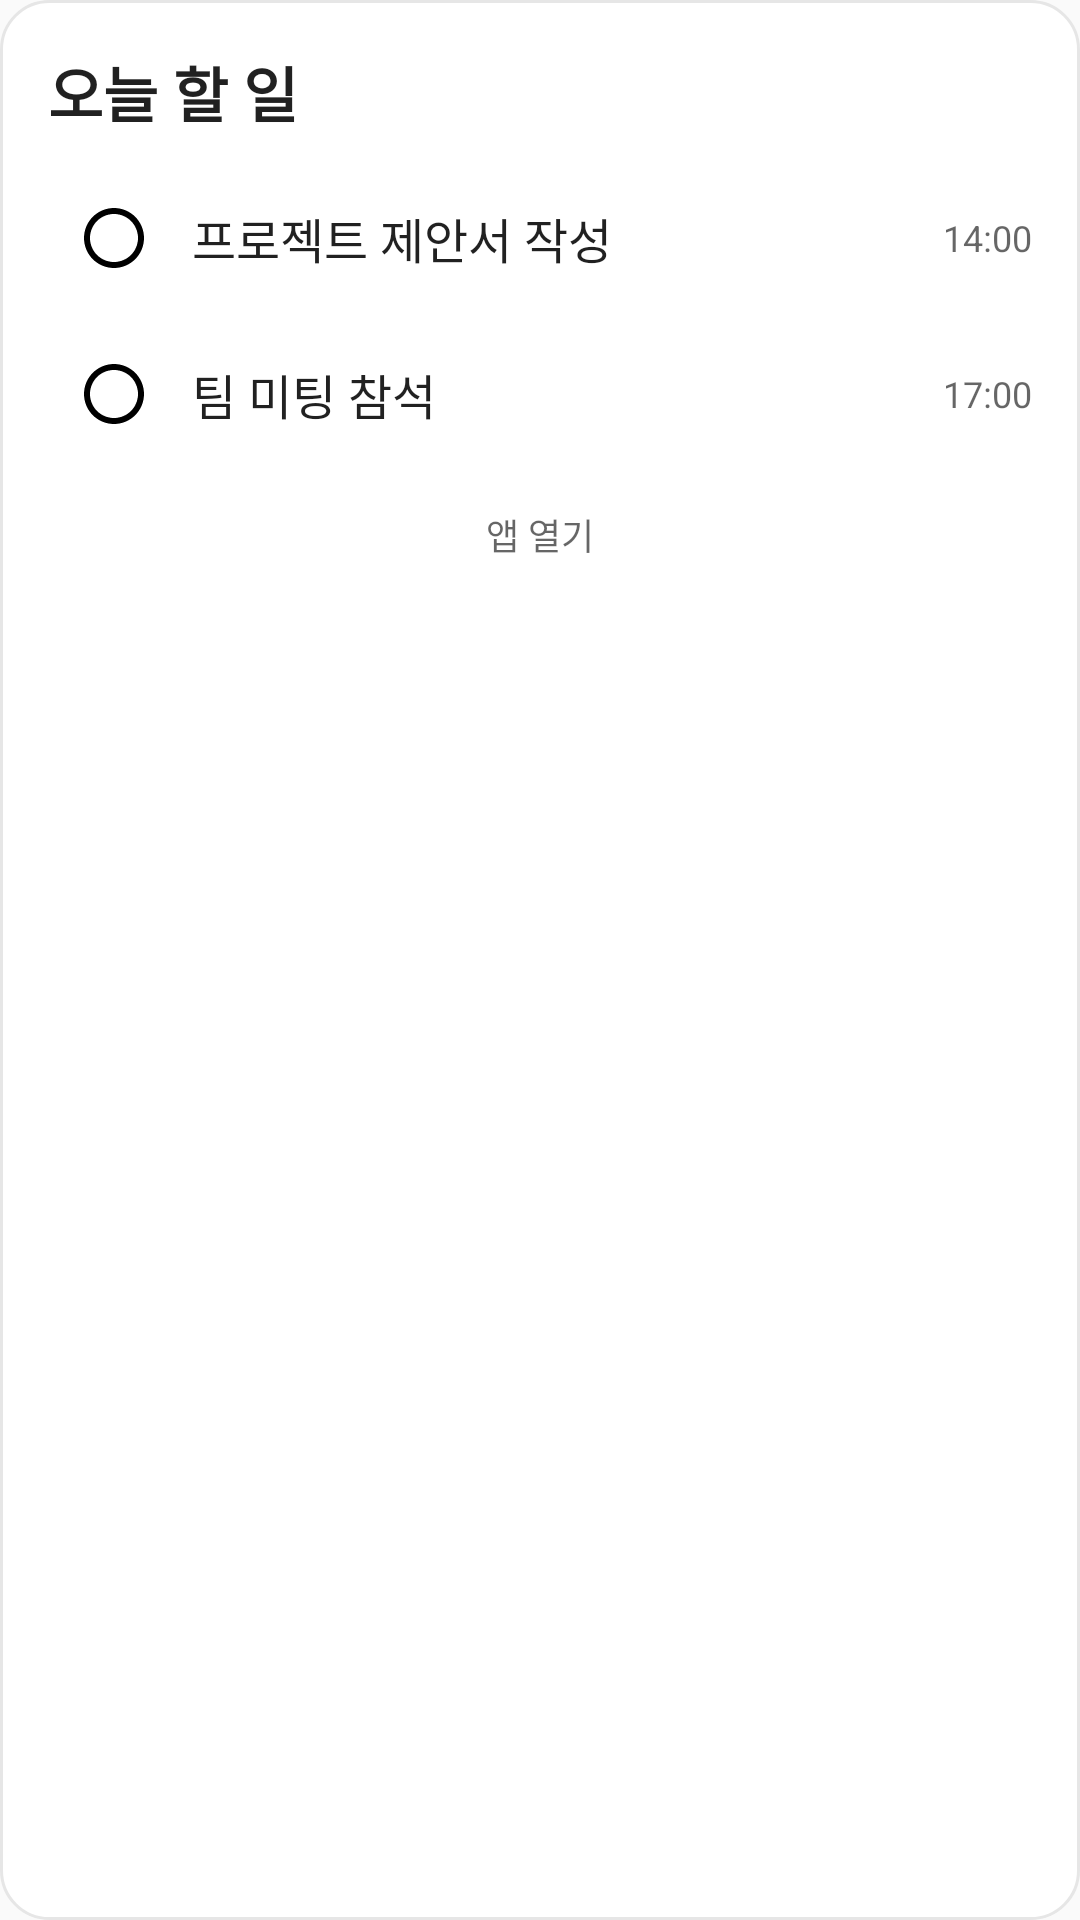

Screen size 1080 × 1920. Icon name, then its center in pixels as point (x, y):
미완료: point (114, 238), point (114, 394)
